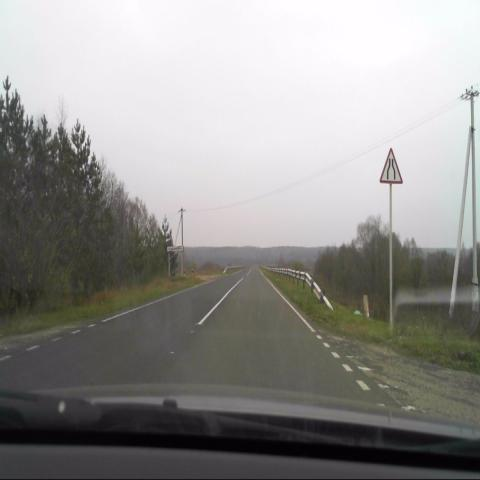1_20: (380, 148, 403, 184)
